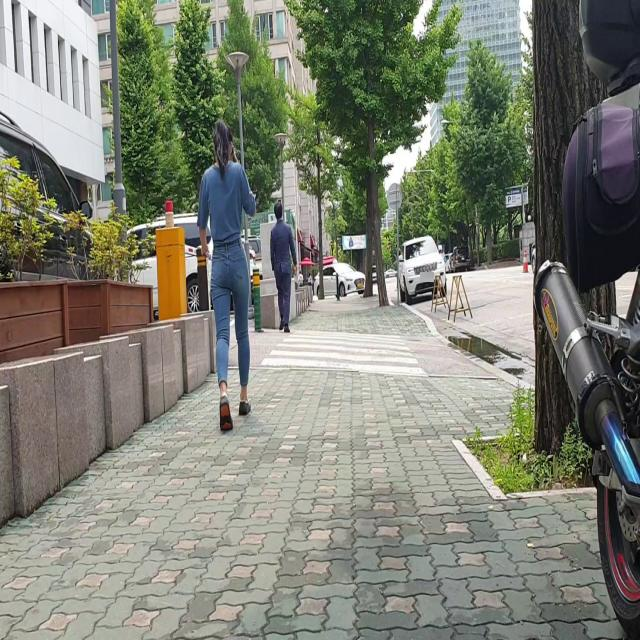횡단보도: (260, 330, 429, 378)
